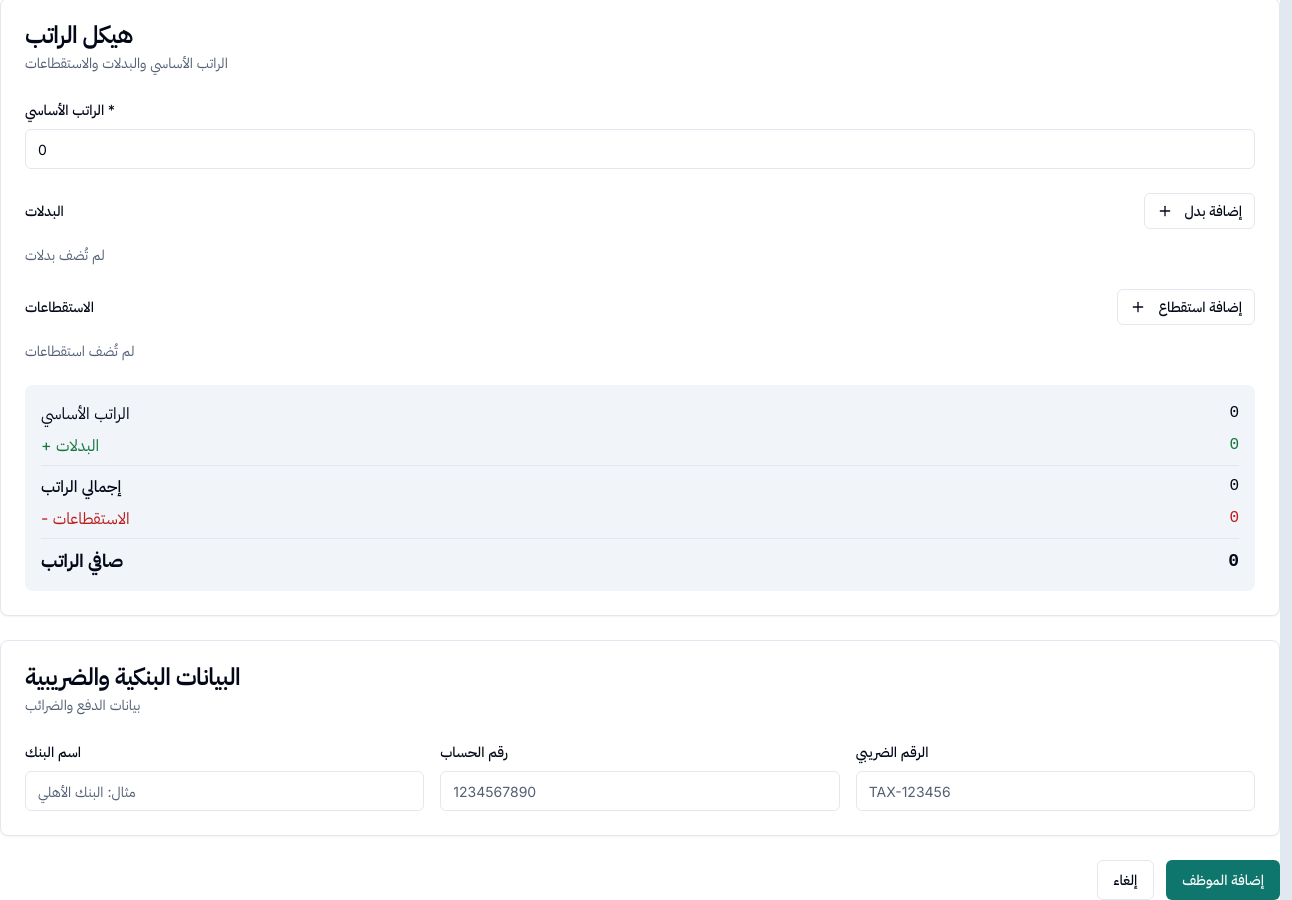
Test: EmployeeForm › shows translated validation messages in Arabic
The image size is (1292, 900).
(page scrolled)
Click the button "إضافة الموظف" at (1223, 880), box top-left (1166, 860), bottom-right (1280, 899)
(page scrolled)
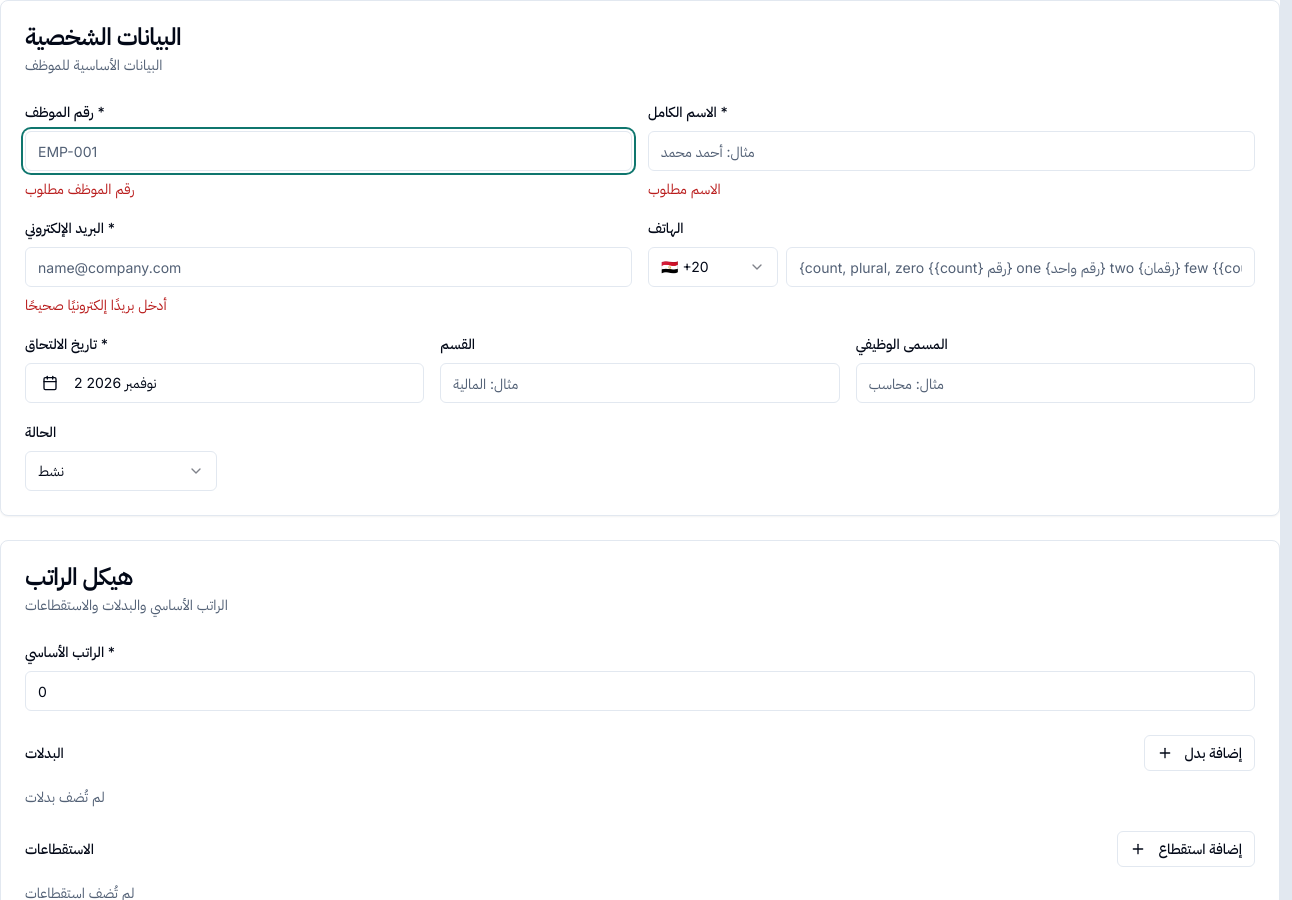
Now the text "رقم الموظف مطلوب" is shown, box top-left (25, 180), bottom-right (134, 197)
Now the text "أدخل بريدًا إلكترونيًا صحيحًا" is shown, box top-left (25, 296), bottom-right (167, 313)
